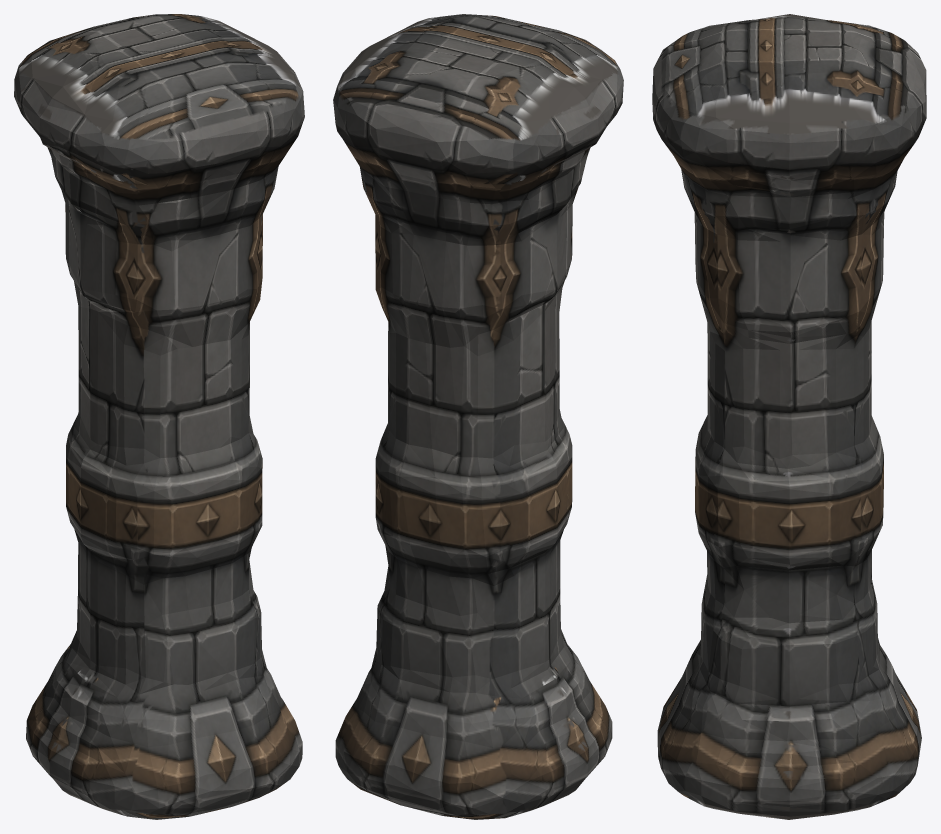
Rendered from SM_Dungeon_Pillar_A_LOD0.fbx.
3 renders of one model, left to right at view 1: azimuth 30°, elevation 25°; view 2: azimuth 150°, elevation 25°; view 3: azimuth 270°, elevation 25°, orthographic.
Parts seen in each view (by area): view 1: SM_Dungeon_Pillar_A_LOD0; view 2: SM_Dungeon_Pillar_A_LOD0; view 3: SM_Dungeon_Pillar_A_LOD0.
Boxes of the visible parts, <box> form: SM_Dungeon_Pillar_A_LOD0: <box>14,14,304,819</box>; SM_Dungeon_Pillar_A_LOD0: <box>333,14,623,819</box>; SM_Dungeon_Pillar_A_LOD0: <box>652,14,926,819</box>.
Bounding box in the file's own units: 1 × 3 × 0.9932.
